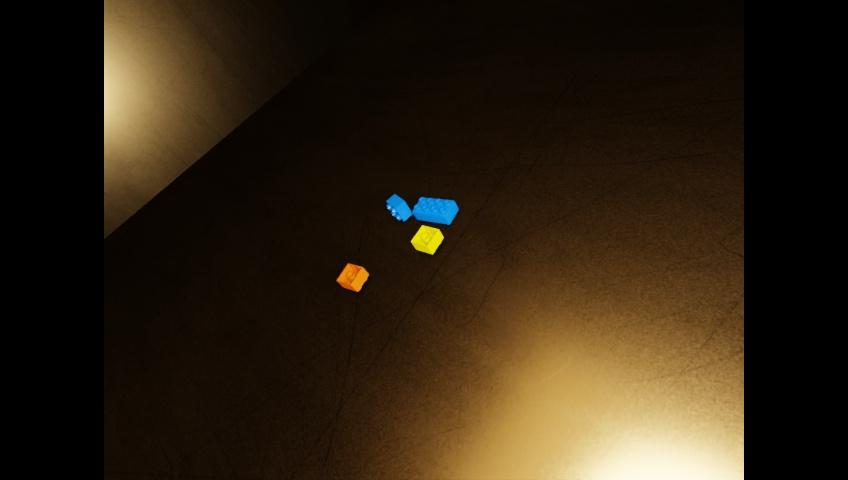2x2_blue: (386, 193, 411, 220)
2x2_orange: (336, 263, 368, 291)
2x2_yellow: (411, 225, 442, 253)
4x2_blue: (412, 196, 457, 224)
